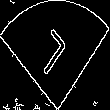L_SW: (34, 26, 76, 84)
